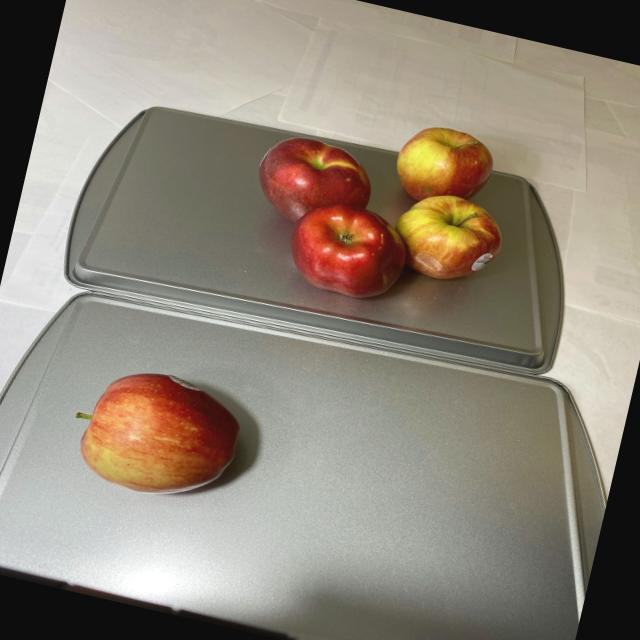apple: (230, 88, 528, 328), (58, 352, 258, 512)
